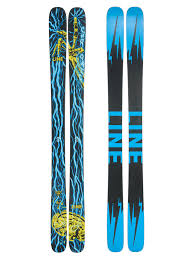skis: (103, 6, 146, 253), (47, 6, 87, 254)
